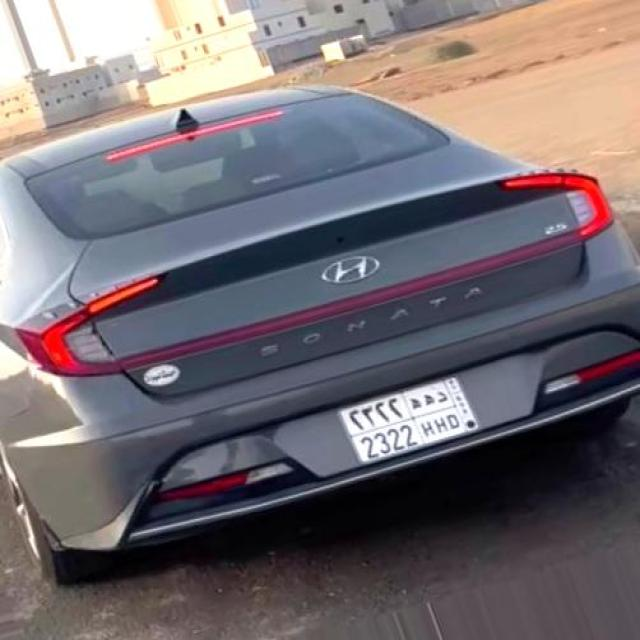Car-plate: (331, 356, 489, 484)
